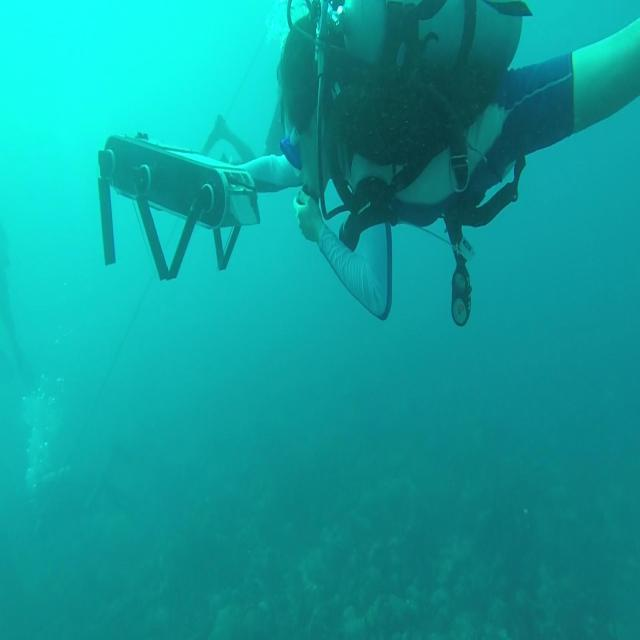human: (200, 1, 639, 327)
